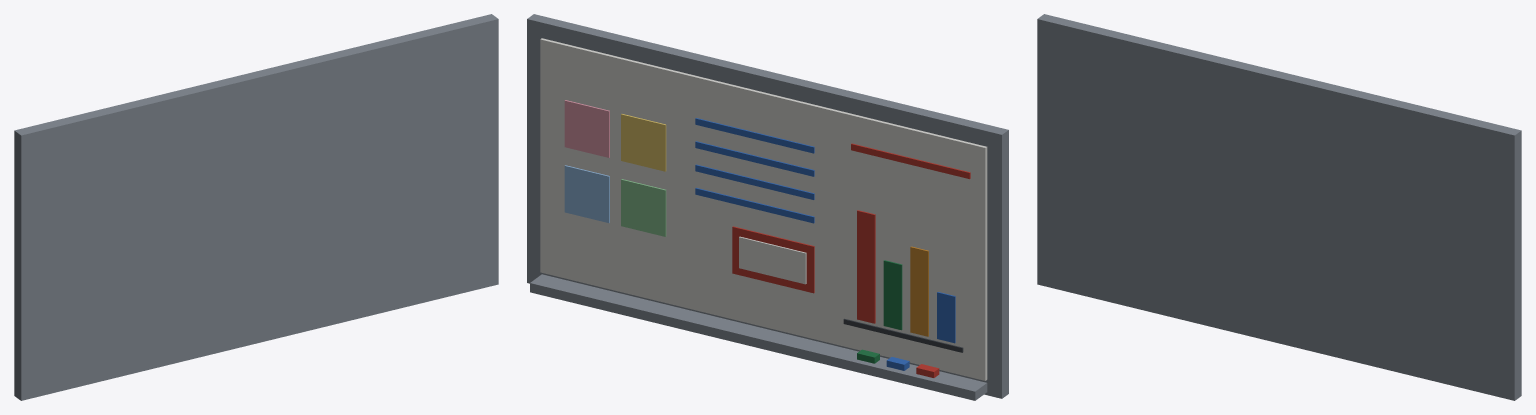
Rendered from tv-whiteboard.glb.
3 renders of one model, left to right at view 1: azimuth 30°, elevation 25°; view 2: azimuth 150°, elevation 25°; view 3: azimuth 330°, elevation 25°, orthographic.
Parts seen in each view (by area): view 1: box-prop; view 2: box-prop; view 3: box-prop.
Boxes of the visible parts, x1,y1,x2,y2 form: box-prop: (14, 14, 498, 400); box-prop: (527, 14, 1008, 400); box-prop: (1037, 14, 1521, 400).
Bounding box in the file's own units: 3.2 × 1.7 × 0.22.
